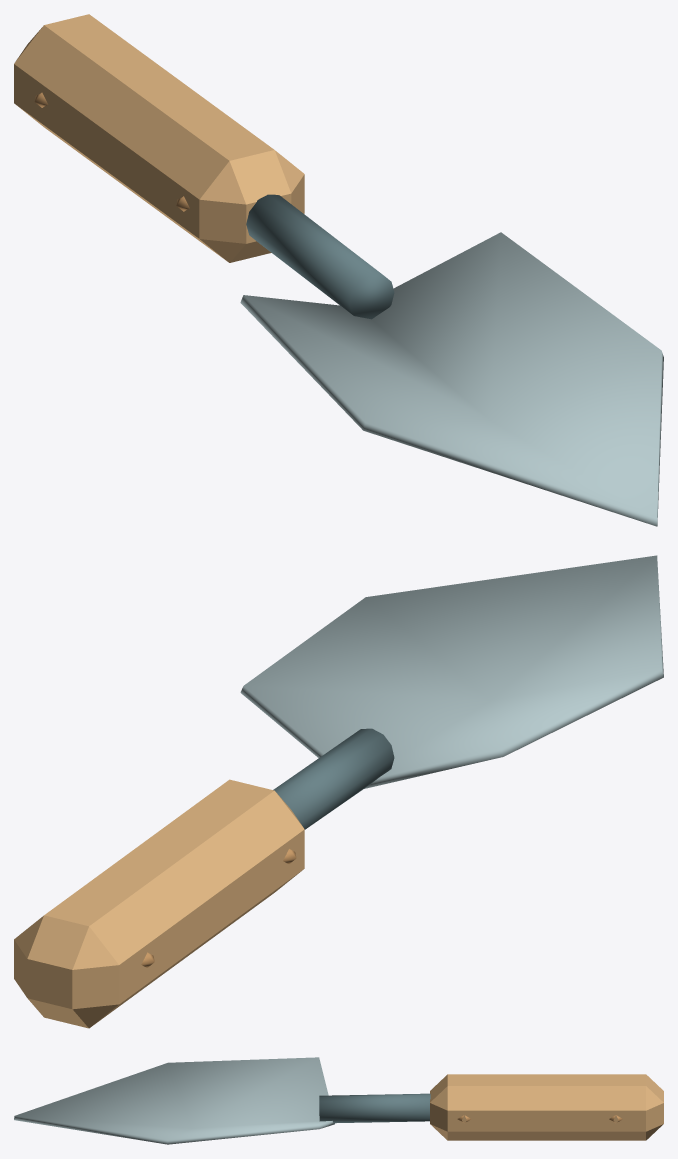
Rendered from transplantoir.glb.
3 views of the same model, one above another, from view 1: azimuth 30°, elevation 25°; view 2: azimuth 150°, elevation 25°; view 3: azimuth 270°, elevation 25° (orthographic). The views are drawn at different scales.
Visible parts, largest first — view 1: transplantoir; view 2: transplantoir; view 3: transplantoir.
Part boxes in pixels (bbox=[...]): transplantoir: bbox=[14, 14, 663, 526]; transplantoir: bbox=[14, 555, 663, 1028]; transplantoir: bbox=[14, 1057, 663, 1144].
Bounding box in the file's own units: 0.08 × 0.026 × 0.28.
